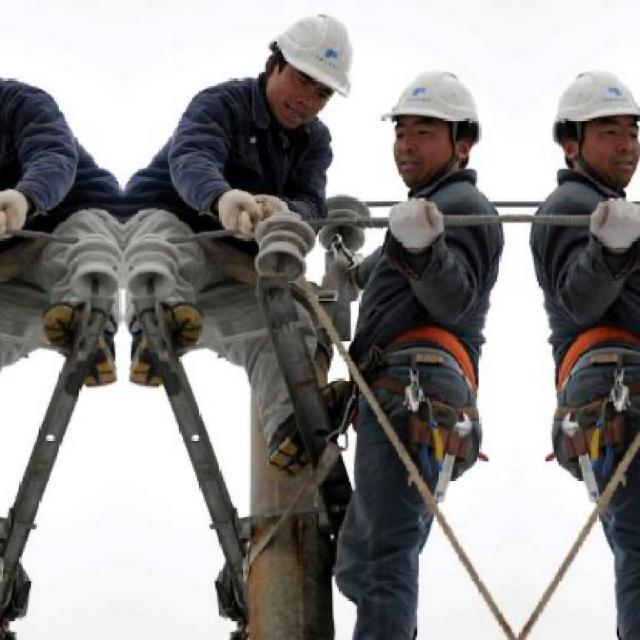helmet: (375, 43, 494, 191), (248, 6, 366, 131), (542, 43, 640, 192)
